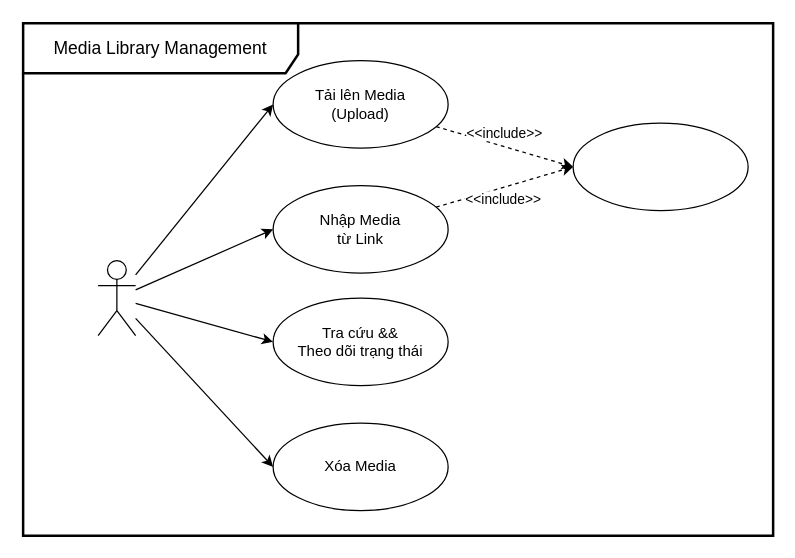
Some shapes in this 795 by 558 pixel diagram are drawn without their labels. The shapes that lost their labels are listed below. From the top down, each one's box as (x1, y1, x2, y2) in pixels, then its label:
(572, 122, 748, 211): Cấu hình Ngôn ngữ xử lý
(97, 259, 136, 336): Người dùng
